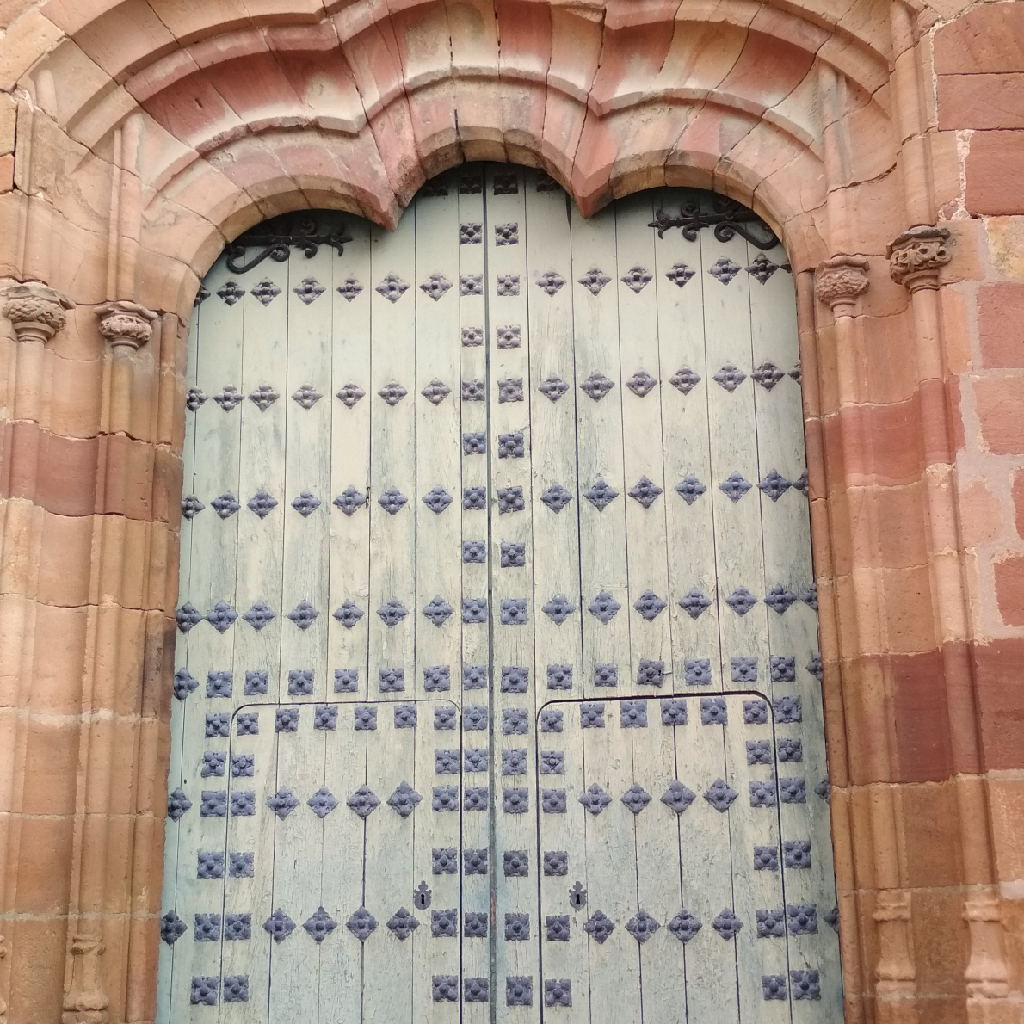arco-trilobulado: (170, 120, 827, 342)
